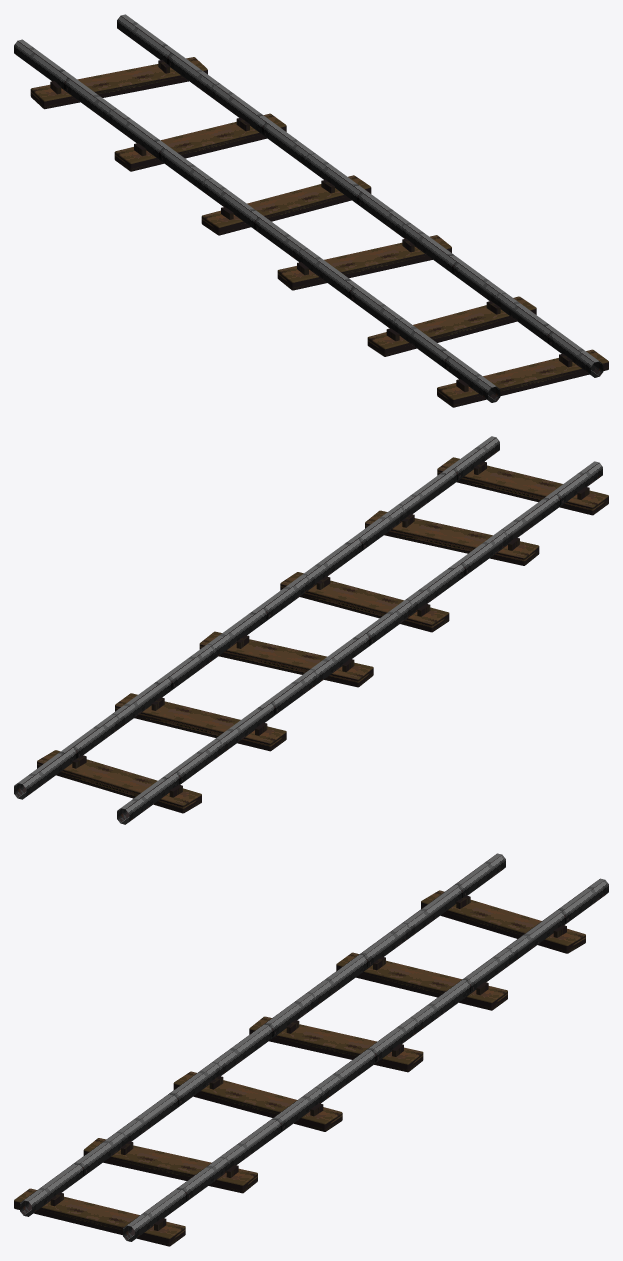
Rendered from trail_00.glb.
3 views of the same model, one above another, from view 1: azimuth 30°, elevation 25°; view 2: azimuth 150°, elevation 25°; view 3: azimuth 330°, elevation 25° (orthographic).
Visible parts, largest first — view 1: Rail, Rail Wood; view 2: Rail, Rail Wood; view 3: Rail, Rail Wood.
Boxes of the visible parts, x1,y1,x2,y2 form: Rail: (14,14,603,402); Rail Wood: (30,57,608,407); Rail: (14,436,602,824); Rail Wood: (37,457,608,813); Rail: (20,853,608,1241); Rail Wood: (14,890,585,1246).
Size of the model in its own units: 1.54 by 0.2353 by 8.01.
2 materials, 2 textured.
